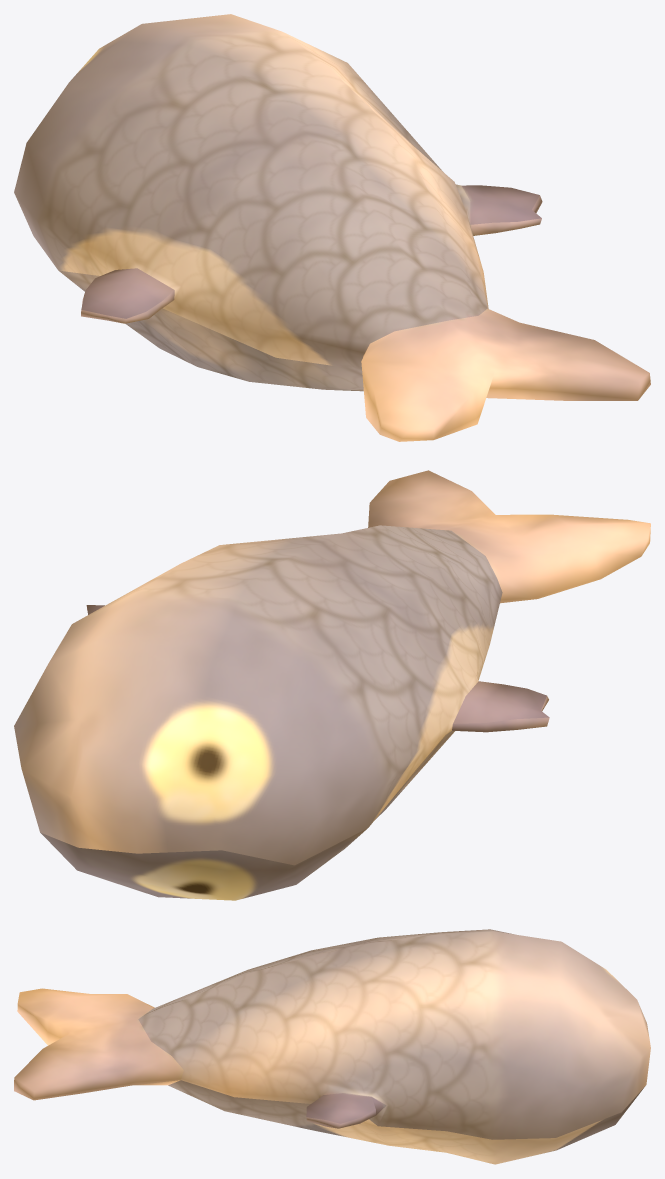
Rendered from SM_Stylized_Food_Fish.fbx.
3 views of the same model, one above another, from view 1: azimuth 30°, elevation 25°; view 2: azimuth 150°, elevation 25°; view 3: azimuth 270°, elevation 25° (orthographic). The views are drawn at different scales.
Parts seen in each view (by area): view 1: SM_Stylized_Food_Fish_LOD0; view 2: SM_Stylized_Food_Fish_LOD0; view 3: SM_Stylized_Food_Fish_LOD0.
Part boxes in pixels (x1=…): SM_Stylized_Food_Fish_LOD0: x1=14, y1=14, x2=650, y2=441; SM_Stylized_Food_Fish_LOD0: x1=14, y1=470, x2=650, y2=900; SM_Stylized_Food_Fish_LOD0: x1=14, y1=929, x2=650, y2=1164.
Bounding box in the file's own units: 29.09 × 46.77 × 17.2.
